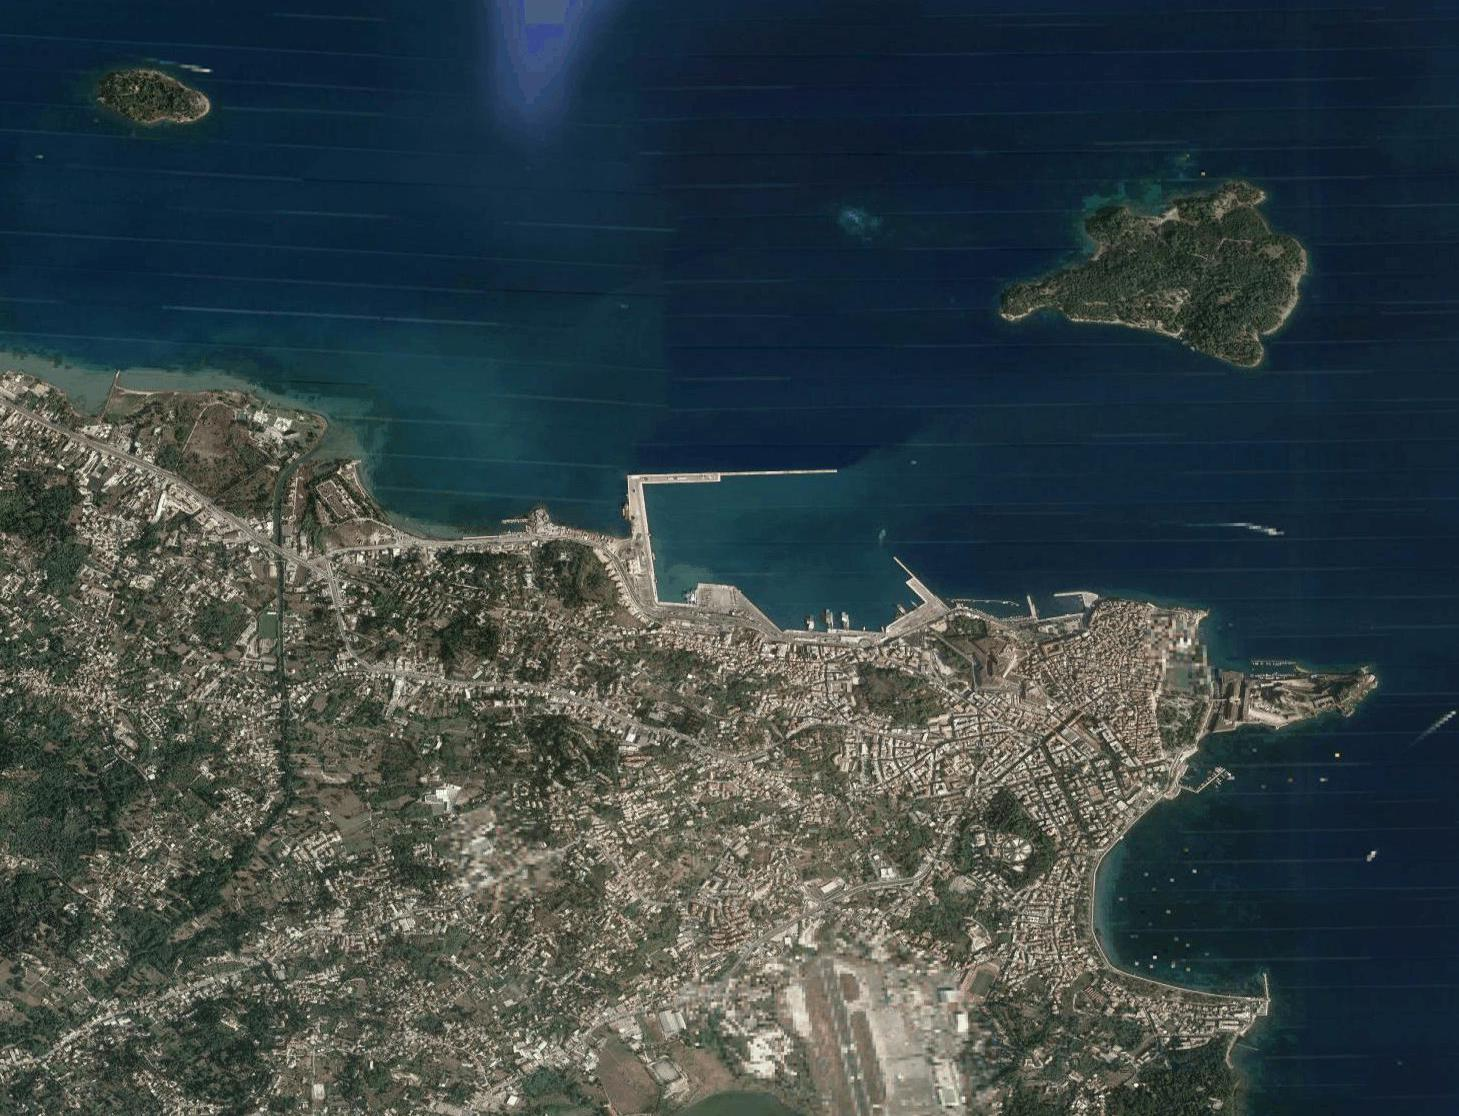harbor: (586, 443, 950, 645)
